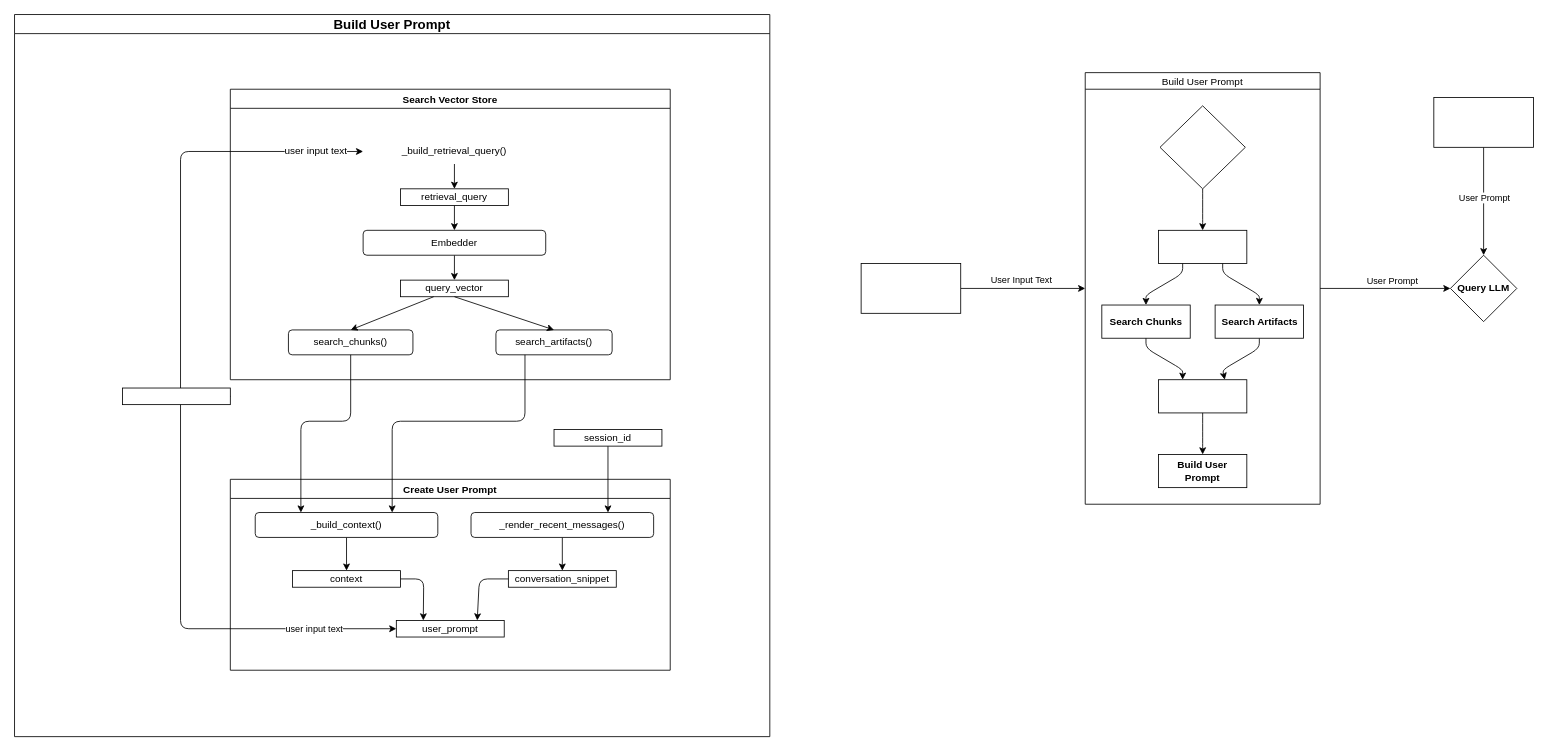
This 1548x751 diagram has some shape labels left out. The box of each missing label's shape, as (x1, y1, x2, y2) in pixels:
Build Context: (1158, 379, 1247, 413)
Build Retrieval Query: (1159, 105, 1245, 189)
Embedd Retrieval Query: (1158, 229, 1247, 264)
Get System Prompt: (1433, 97, 1533, 147)
Start Chat: (860, 263, 961, 313)
user_message: (122, 387, 230, 405)
